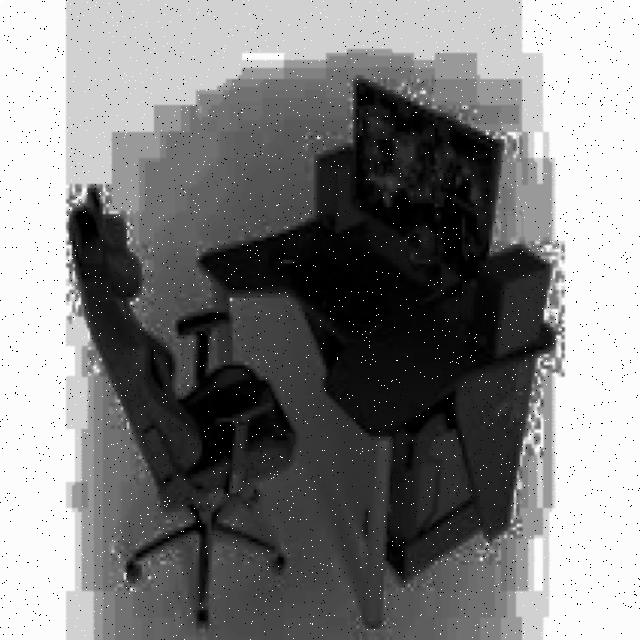book: (69, 184, 299, 625)
table: (200, 203, 556, 625)
